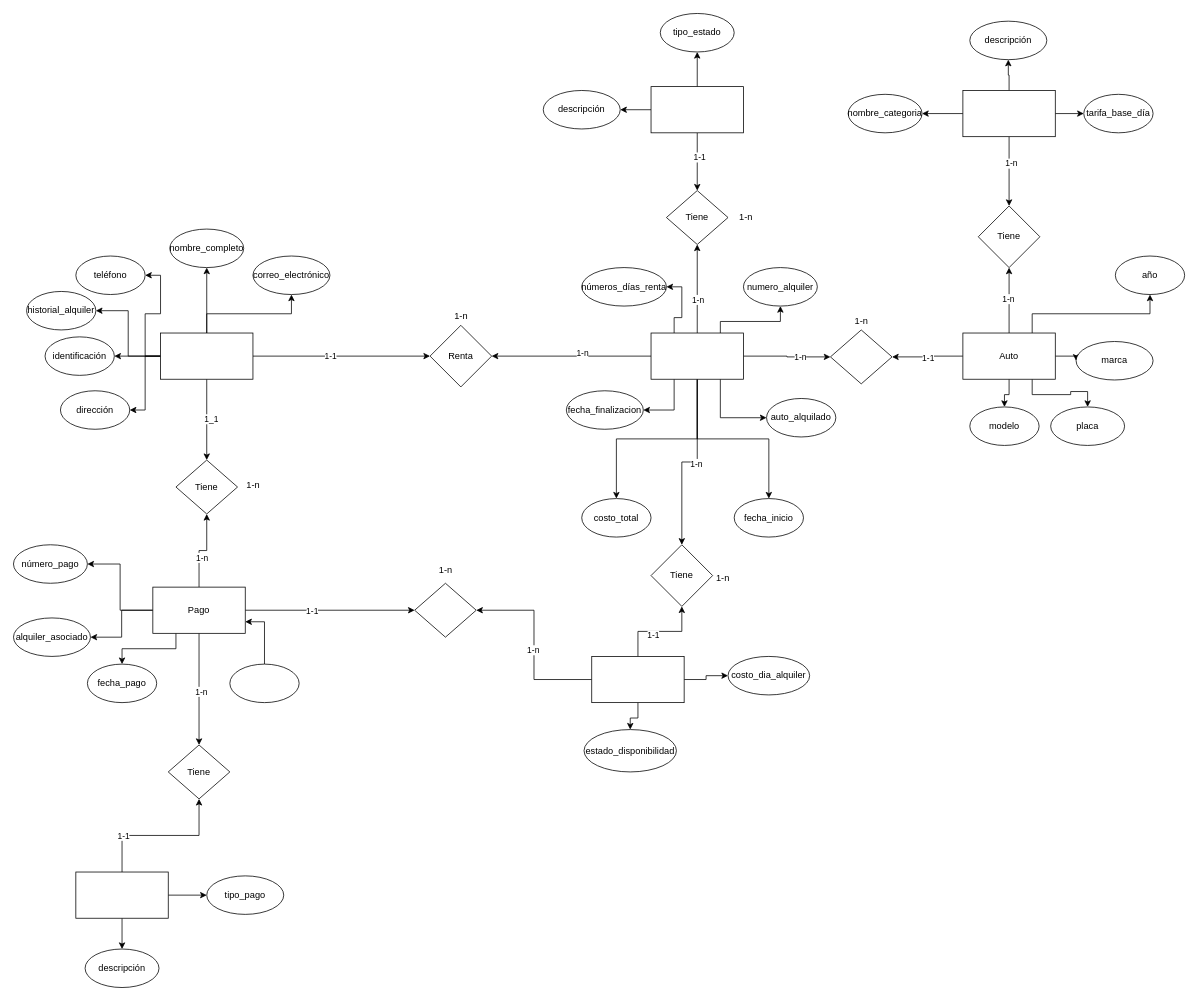
This 1198x1001 diagram has some shape labels left out. The shapes that lost their labels are listed below. From the top down, each one's box as (x1, y1, x2, y2) in pixels, then its label:
(650, 86, 743, 133): Estado de Alquiler
(962, 90, 1055, 137): Categoría Auto
(160, 332, 253, 379): Cliente
(650, 332, 743, 379): Alquiler
(830, 329, 892, 384): Rentan
(414, 583, 476, 637): depende
(229, 663, 299, 703): monto_pagado
(591, 656, 684, 703): Categoría
(75, 871, 168, 918): Medio de pago
